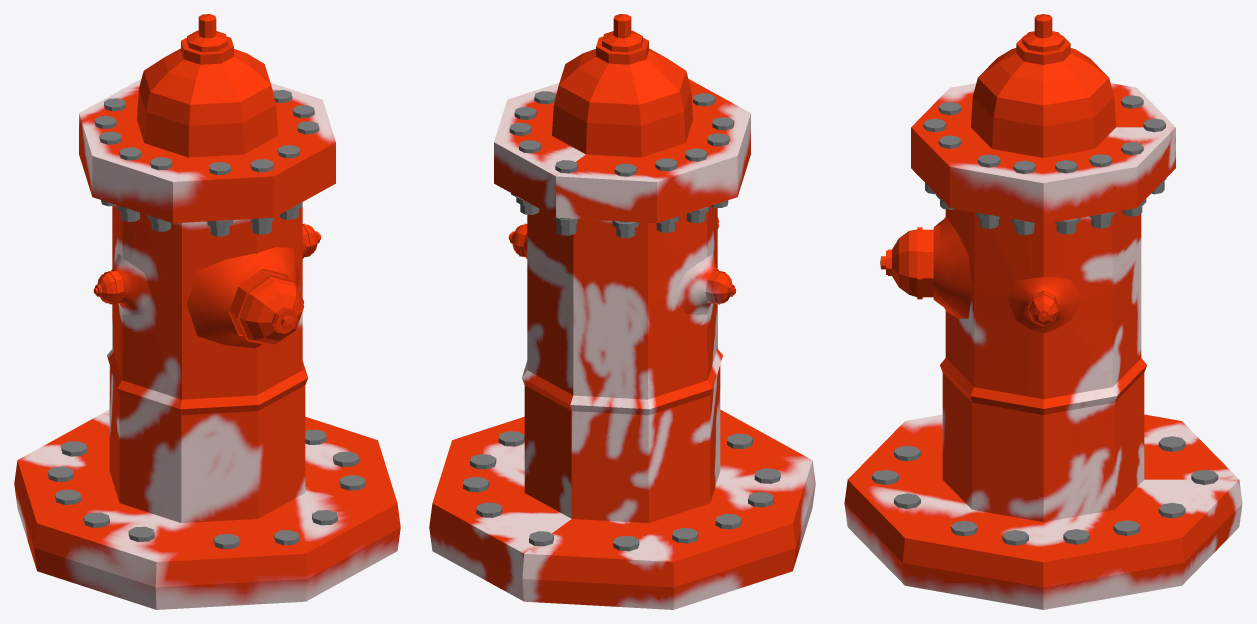
Rendered from hidrante.fbx.
The picture shows the model from 3 angles, left to right: view 1: azimuth 30°, elevation 25°; view 2: azimuth 150°, elevation 25°; view 3: azimuth 270°, elevation 25°; orthographic projection.
Parts seen in each view (by area): view 1: hidrante; view 2: hidrante; view 3: hidrante.
Boxes of the visible parts, x1,y1,x2,y2 form: hidrante: [14, 14, 400, 609]; hidrante: [429, 14, 815, 609]; hidrante: [844, 14, 1242, 609].
Bounding box in the file's own units: 59.99 × 85.03 × 59.99.
